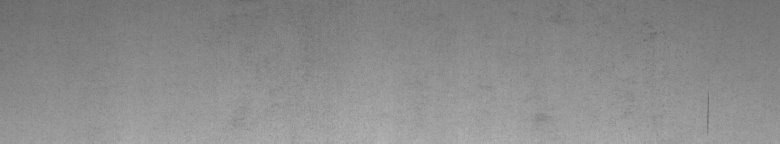ib: (644, 32, 709, 128)
